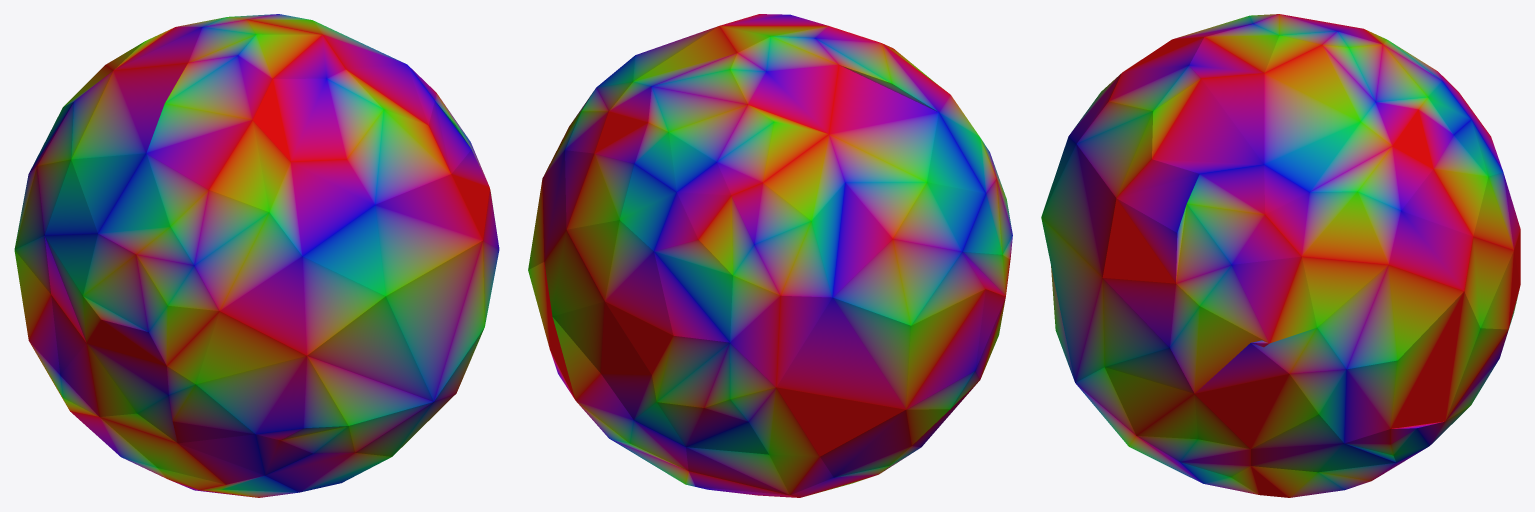
Rendered from after_decimating_reconquest_4.obj.
3 views of the same model, side by side, from view 1: azimuth 30°, elevation 25°; view 2: azimuth 150°, elevation 25°; view 3: azimuth 270°, elevation 25° (orthographic).
Size of the model in its own units: 1.99 by 1.99 by 1.97.
